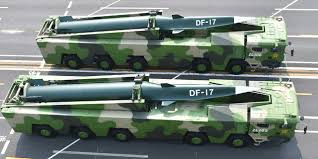ten_lua: (19, 79, 263, 108), (41, 12, 252, 40)
